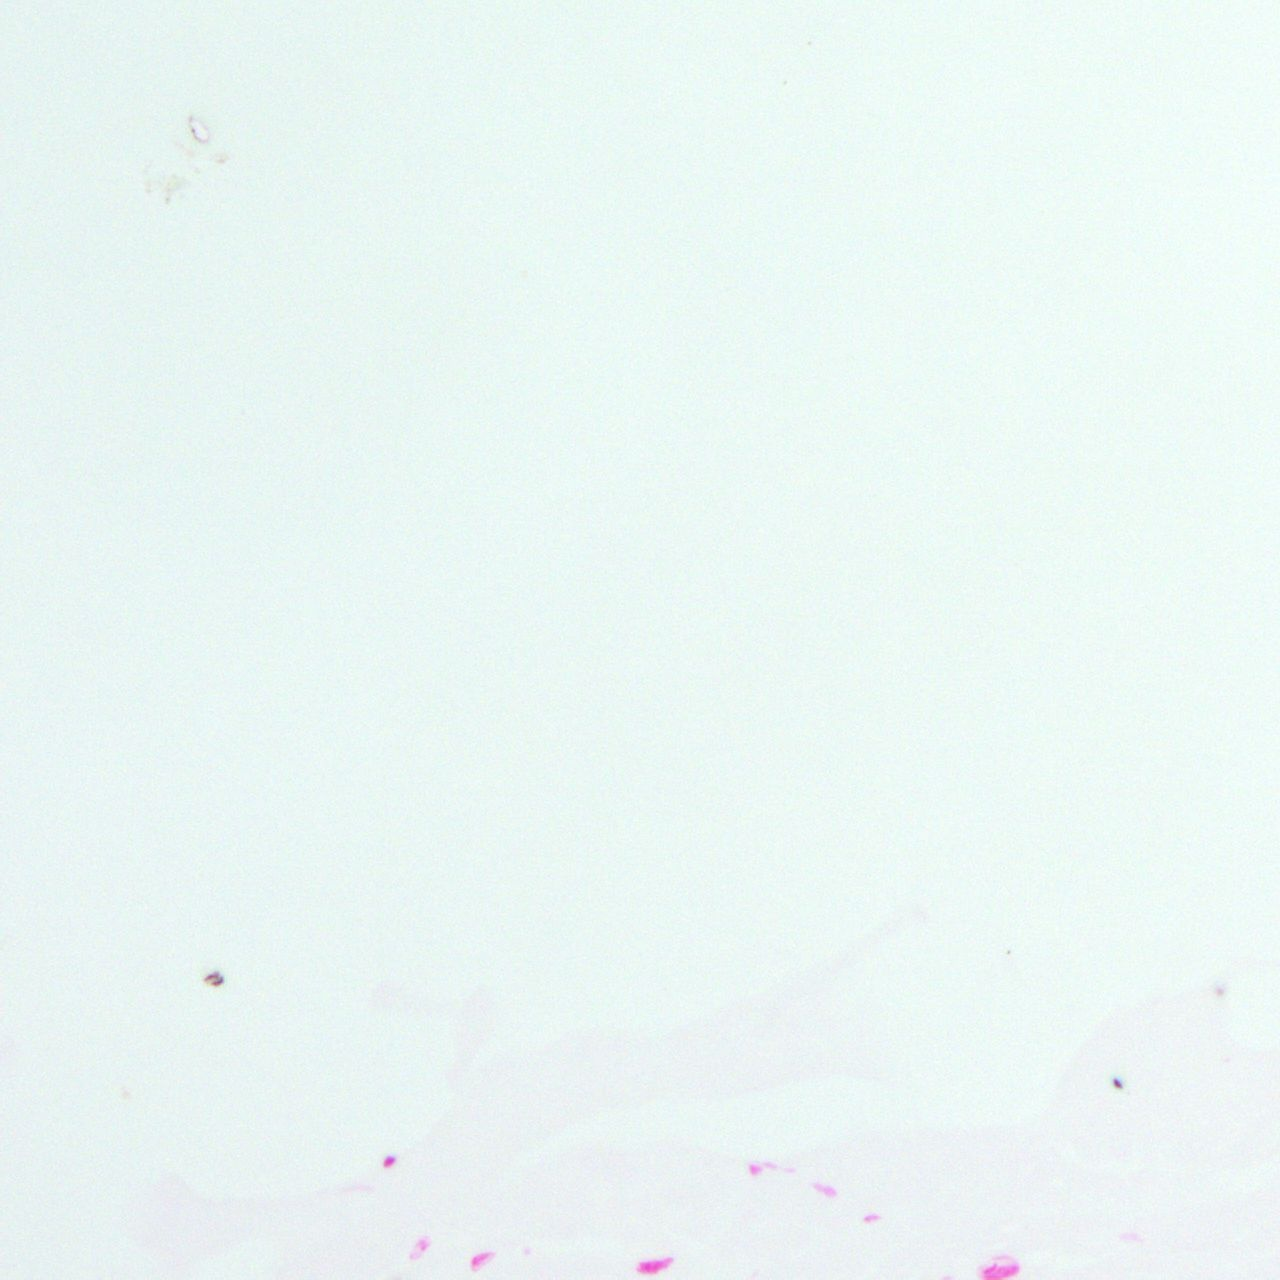dust: (189, 115, 210, 144), (203, 971, 223, 987), (163, 181, 172, 205), (212, 152, 231, 164), (1006, 949, 1010, 954)
nucleus-FG: (381, 1153, 397, 1169), (1111, 1076, 1124, 1089)
